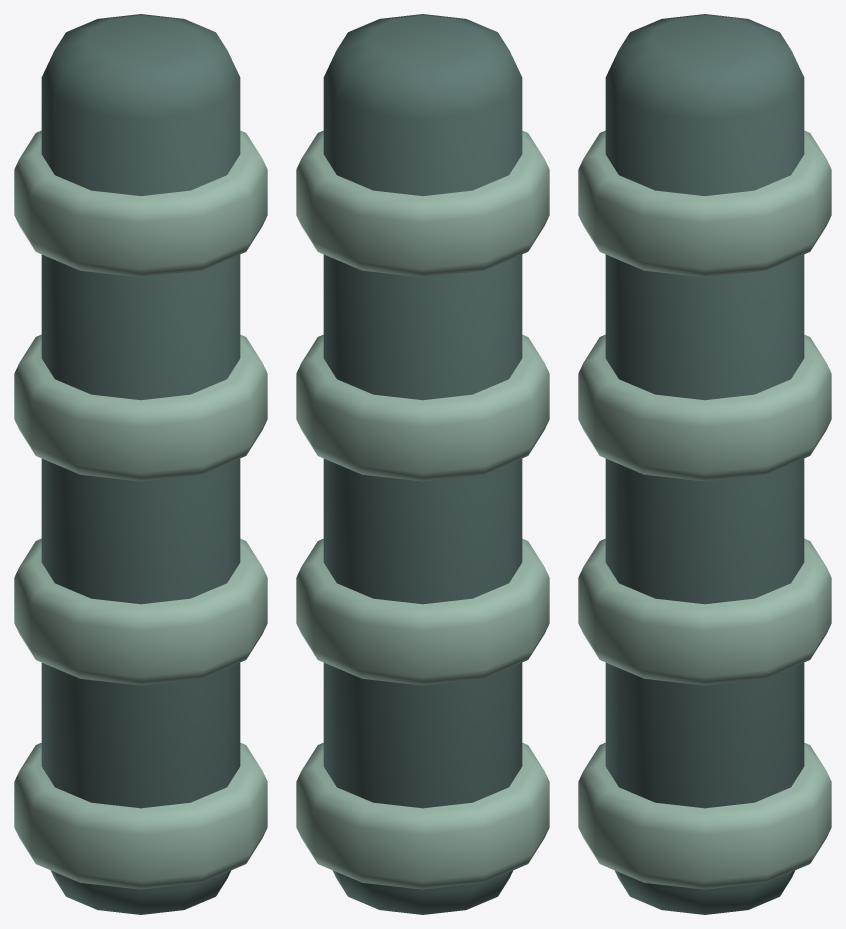
The model's file is grabber_segment.glb.
The picture shows the model from 3 angles, left to right: view 1: azimuth 30°, elevation 25°; view 2: azimuth 150°, elevation 25°; view 3: azimuth 270°, elevation 25°; orthographic projection.
Parts seen in each view (by area): view 1: grabber_segment / material batches; view 2: grabber_segment / material batches; view 3: grabber_segment / material batches.
Boxes of the visible parts, x1,y1,x2,y2 form: grabber_segment / material batches: (14, 14, 267, 914); grabber_segment / material batches: (296, 14, 549, 914); grabber_segment / material batches: (578, 14, 831, 914).
Bounding box in the file's own units: 0.27 × 1 × 0.27.
